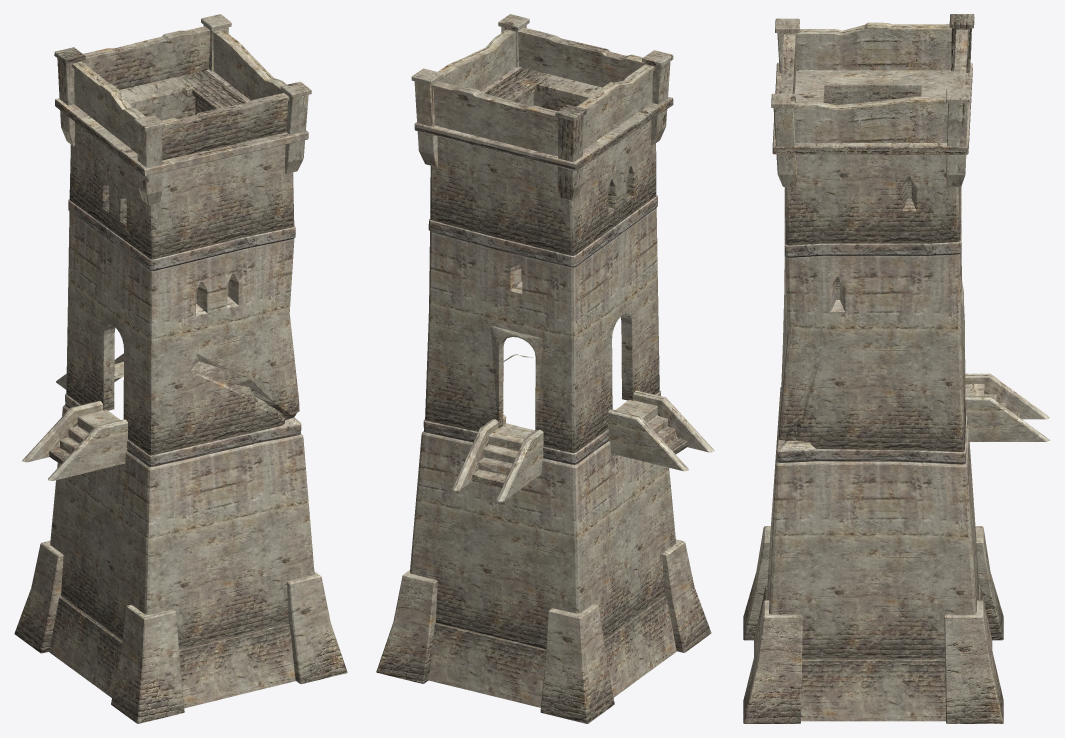
Rendered from TW2_5_HOUSE_01_26-transformed.glb.
The picture shows the model from 3 angles, left to right: view 1: azimuth 30°, elevation 25°; view 2: azimuth 150°, elevation 25°; view 3: azimuth 270°, elevation 25°; orthographic projection. The views are drawn at different scales.
Visible parts, largest first — view 1: default; view 2: default; view 3: default.
Part boxes in pixels (<box>): default: <box>14,14,347,723</box>; default: <box>376,14,714,723</box>; default: <box>743,14,1050,723</box>.
Size of the model in its own units: 7.18 by 15.68 by 7.08.
Materials: 1 (1 with a texture image).
